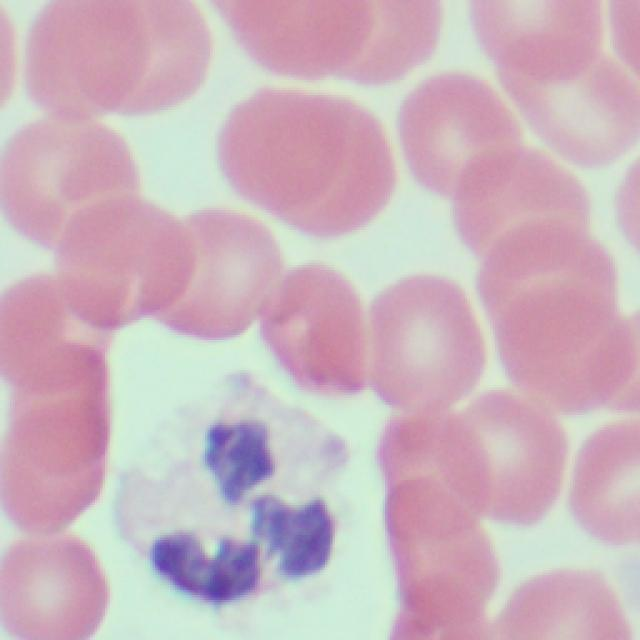RBC: (213, 73, 390, 235), (0, 280, 110, 532), (486, 6, 639, 178), (20, 0, 210, 122), (375, 455, 493, 640), (138, 199, 284, 341), (354, 264, 482, 420), (474, 217, 617, 355), (207, 0, 440, 82), (7, 113, 142, 247), (257, 252, 373, 403), (53, 199, 187, 327), (497, 285, 632, 412), (449, 378, 568, 520), (390, 74, 510, 199), (459, 157, 588, 271), (0, 522, 100, 638), (500, 563, 631, 640), (566, 421, 640, 551)
WBC: (150, 410, 336, 609)
